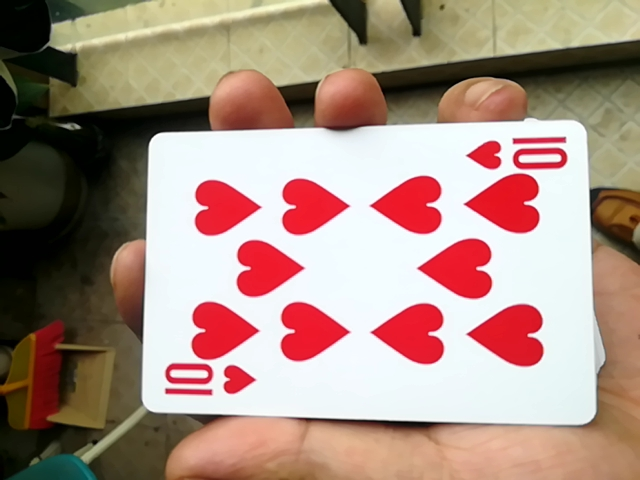hx 10: (132, 124, 586, 435)
